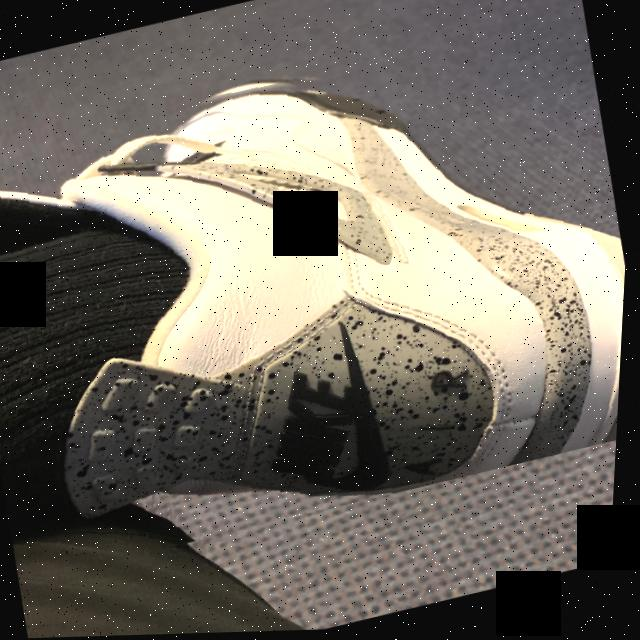shoe: (0, 0, 639, 584)
